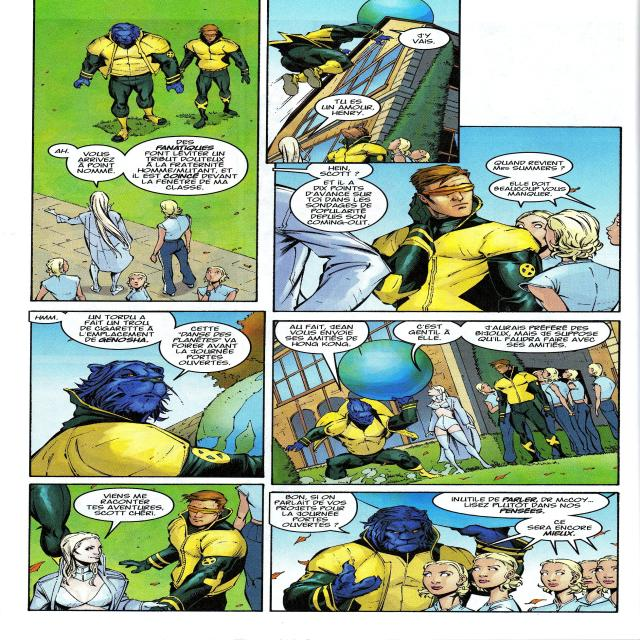comic_panel: (29, 0, 261, 303), (271, 125, 622, 313), (271, 320, 623, 486), (268, 492, 620, 612), (29, 311, 266, 479), (265, 0, 462, 164), (28, 484, 264, 613)
